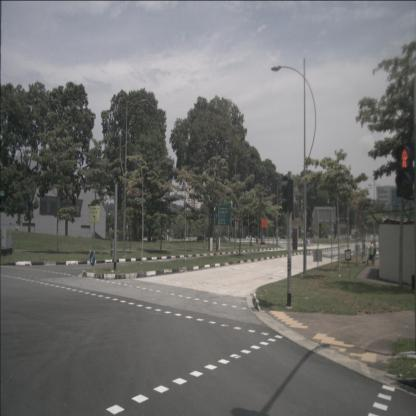vehicle-car: (279, 234, 290, 244), (196, 235, 206, 242), (272, 235, 282, 242), (219, 235, 229, 242), (246, 235, 255, 242), (158, 234, 165, 241)
